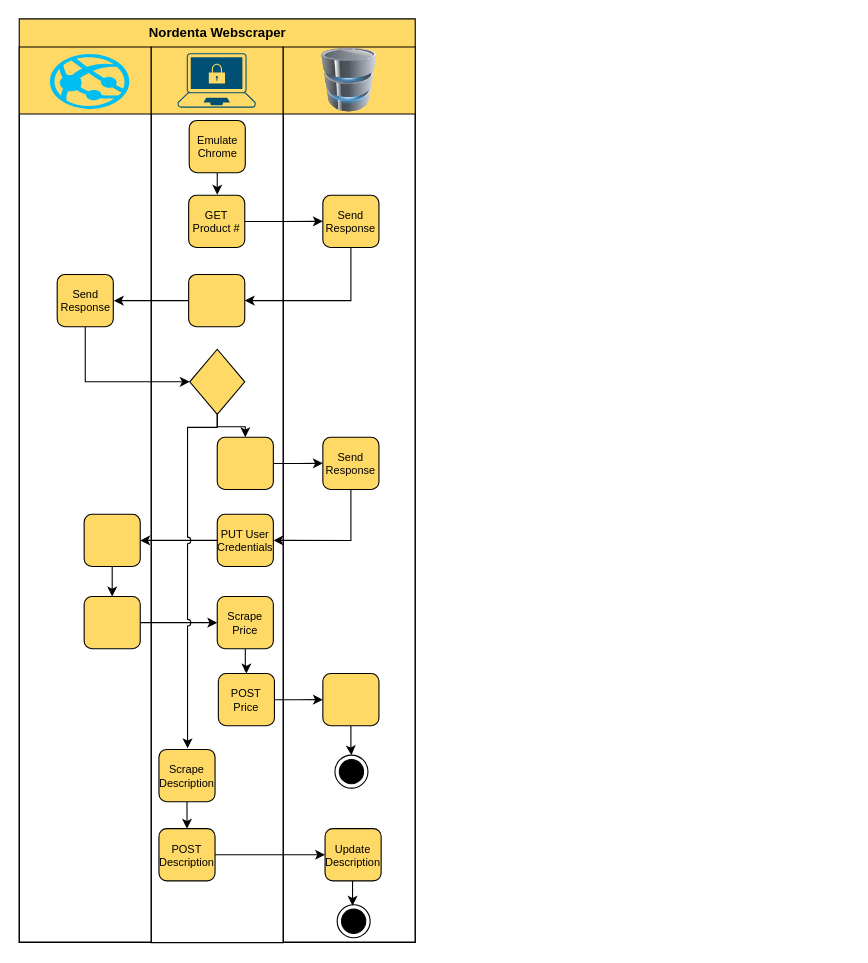
Some shapes in this 868 by 963 pixel diagram are drawn without their labels. The centre of each missing label's shape, as x and y in pixels:
"GET User Credentials" goes at point (244, 463).
"GET webpage" goes at point (216, 300).
"Grant Price Access" goes at point (111, 622).
"Scrape Price?" goes at point (217, 381).
"Update Price" goes at point (350, 699).
"Verify Credentials" goes at point (111, 539).
